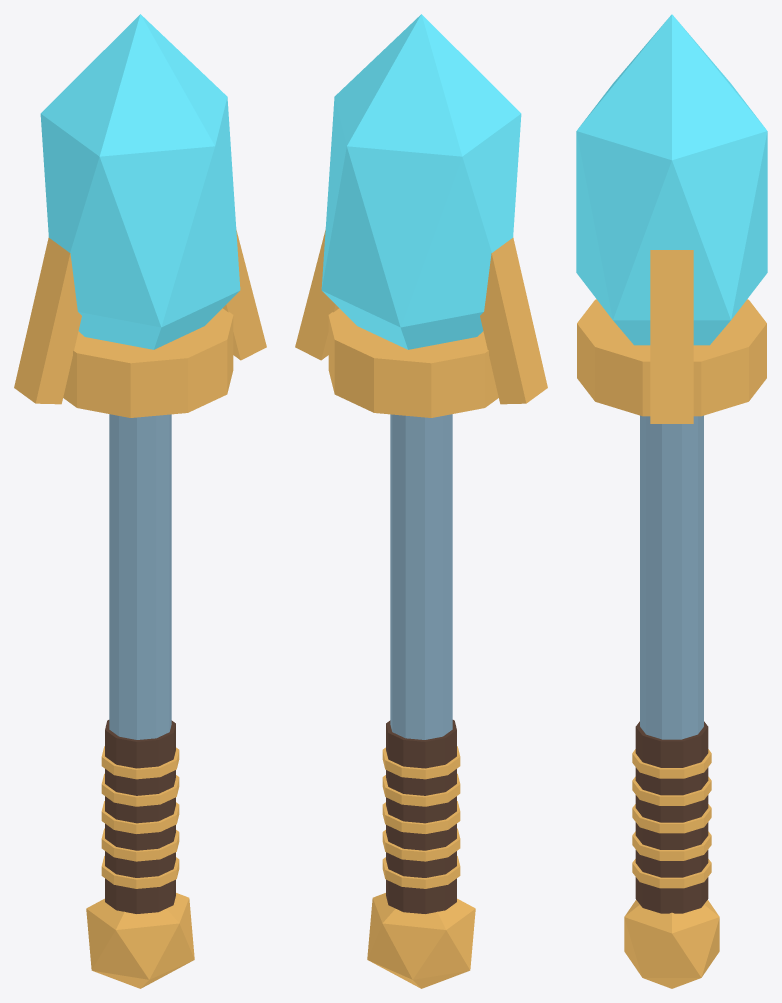
Rendered from dawn-scepter.glb.
3 views of the same model, side by side, from view 1: azimuth 30°, elevation 25°; view 2: azimuth 150°, elevation 25°; view 3: azimuth 270°, elevation 25° (orthographic).
Parts seen in each view (by area): view 1: dawn-scepter; view 2: dawn-scepter; view 3: dawn-scepter.
Part boxes in pixels (<box>): dawn-scepter: <box>14,14,266,988</box>; dawn-scepter: <box>295,14,547,988</box>; dawn-scepter: <box>576,14,767,988</box>.
Size of the model in its own units: 0.3092 by 1.24 by 0.2212.
